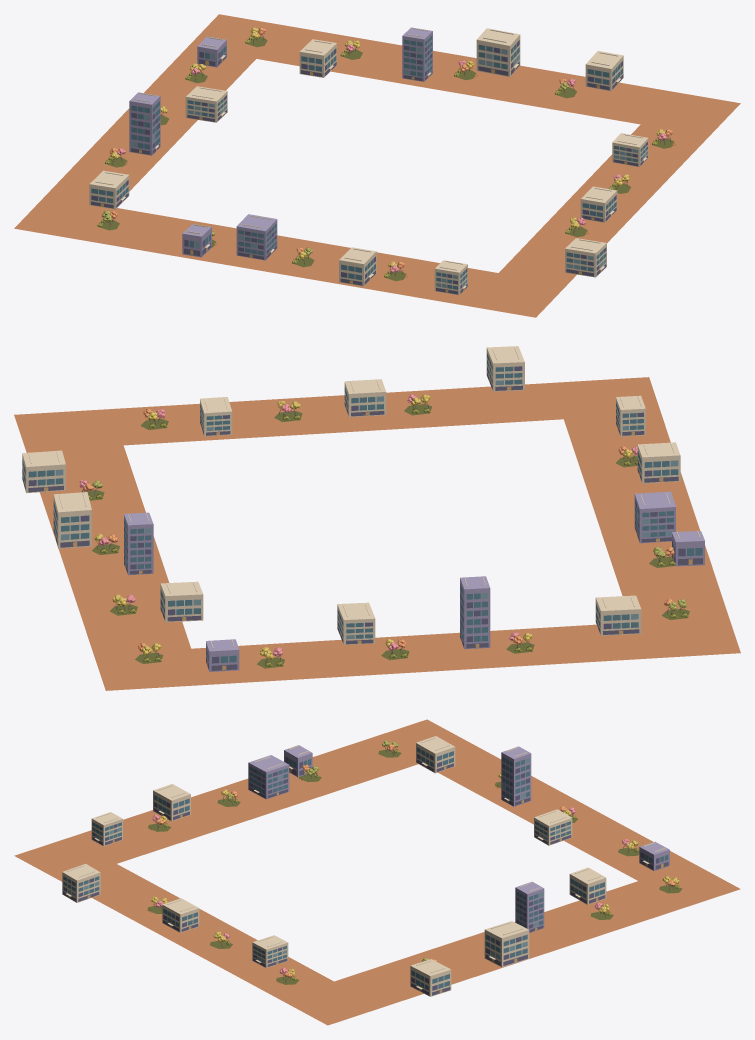
File: city_periphery_v10.glb
3 views of the same model, one above another, from view 1: azimuth 30°, elevation 25°; view 2: azimuth 150°, elevation 25°; view 3: azimuth 270°, elevation 25° (orthographic). The views are drawn at different scales.
Parts seen in each view (by area): view 1: V10_Peripheral_Ground, V10_Background_Building_05, V10_Background_Building_09, V10_Background_Building_02, V10_Background_Building_06, V10_Background_Building_12, V10_Background_Building_10, V10_Background_Building_04, V10_Background_Building_09_Facade, V10_Background_Building_08, V10_Background_Building_01, V10_Background_Building_07 (+12 smaller); view 2: V10_Peripheral_Ground, V10_Background_Building_05, V10_Background_Building_09, V10_Background_Building_02, V10_Background_Building_08, V10_Background_Building_06, V10_Background_Building_04, V10_Background_Building_12, V10_Background_Building_01, V10_Background_Building_07, V10_Background_Building_10, V10_Background_Building_13 (+15 smaller); view 3: V10_Peripheral_Ground, V10_Background_Building_05, V10_Background_Building_09, V10_Background_Building_02, V10_Background_Building_06, V10_Background_Building_04, V10_Background_Building_12, V10_Background_Building_09_Facade, V10_Background_Building_08, V10_Background_Building_10, V10_Background_Building_01, V10_Background_Building_07 (+10 smaller).
Boxes of the visible parts, x1,y1,x2,y2 form: V10_Peripheral_Ground: (14,14,740,317); V10_Background_Building_05: (476,28,520,76); V10_Background_Building_09: (129,92,160,155); V10_Background_Building_02: (236,214,277,260); V10_Background_Building_06: (402,27,432,81); V10_Background_Building_12: (565,238,606,277); V10_Background_Building_10: (185,86,227,122); V10_Background_Building_04: (585,51,623,91); V10_Background_Building_09_Facade: (131,101,159,154); V10_Background_Building_08: (89,170,129,209); V10_Background_Building_01: (339,247,376,286); V10_Background_Building_07: (299,39,336,77); V10_Peripheral_Ground: (14,377,740,690); V10_Background_Building_05: (53,492,91,548); V10_Background_Building_09: (460,576,490,649); V10_Background_Building_02: (634,491,675,543); V10_Background_Building_08: (595,595,641,635); V10_Background_Building_06: (124,512,153,575); V10_Background_Building_04: (22,450,65,493); V10_Background_Building_12: (486,346,524,391); V10_Background_Building_01: (637,442,680,483); V10_Background_Building_07: (160,581,203,622); V10_Background_Building_10: (337,602,375,644); V10_Background_Building_13: (344,379,386,417); V10_Peripheral_Ground: (14,719,740,1025); V10_Background_Building_05: (484,921,529,967); V10_Background_Building_09: (501,746,531,806); V10_Background_Building_02: (248,755,289,799); V10_Background_Building_06: (515,881,544,932); V10_Background_Building_04: (410,959,451,996); V10_Background_Building_12: (62,863,100,902); V10_Background_Building_09_Facade: (502,757,530,805); V10_Background_Building_08: (416,736,455,773); V10_Background_Building_10: (534,809,572,845); V10_Background_Building_01: (153,784,190,821); V10_Background_Building_07: (569,867,606,904).
Bounding box in the file's own units: 398 × 29.88 × 399.
